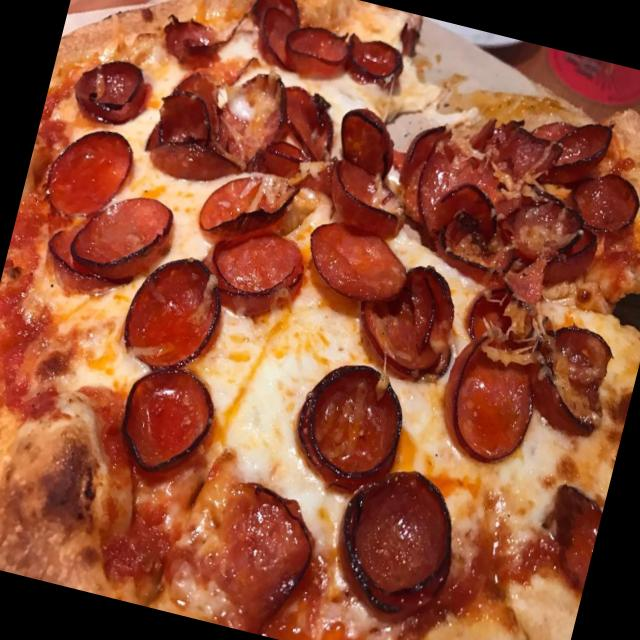pepperoni: (380, 100, 604, 305), (433, 274, 622, 488), (323, 458, 468, 627), (140, 56, 284, 202), (285, 350, 417, 504), (112, 240, 236, 384), (245, 0, 408, 97), (106, 356, 225, 487), (358, 248, 470, 387), (321, 102, 428, 238), (298, 212, 421, 320), (66, 184, 181, 296), (37, 117, 141, 236), (260, 74, 354, 200), (196, 222, 305, 318), (198, 165, 304, 258), (32, 220, 140, 306), (522, 102, 618, 198), (66, 44, 155, 134), (536, 478, 608, 586), (153, 2, 235, 84), (559, 159, 640, 238), (538, 218, 599, 296)
pizza: (0, 0, 640, 640)
